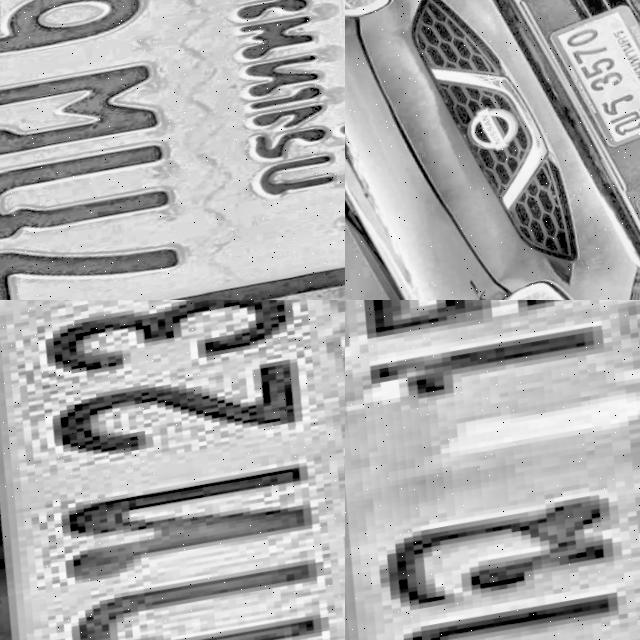license-plate: (0, 300, 345, 640), (0, 0, 345, 300), (345, 300, 640, 640), (533, 0, 640, 158)
